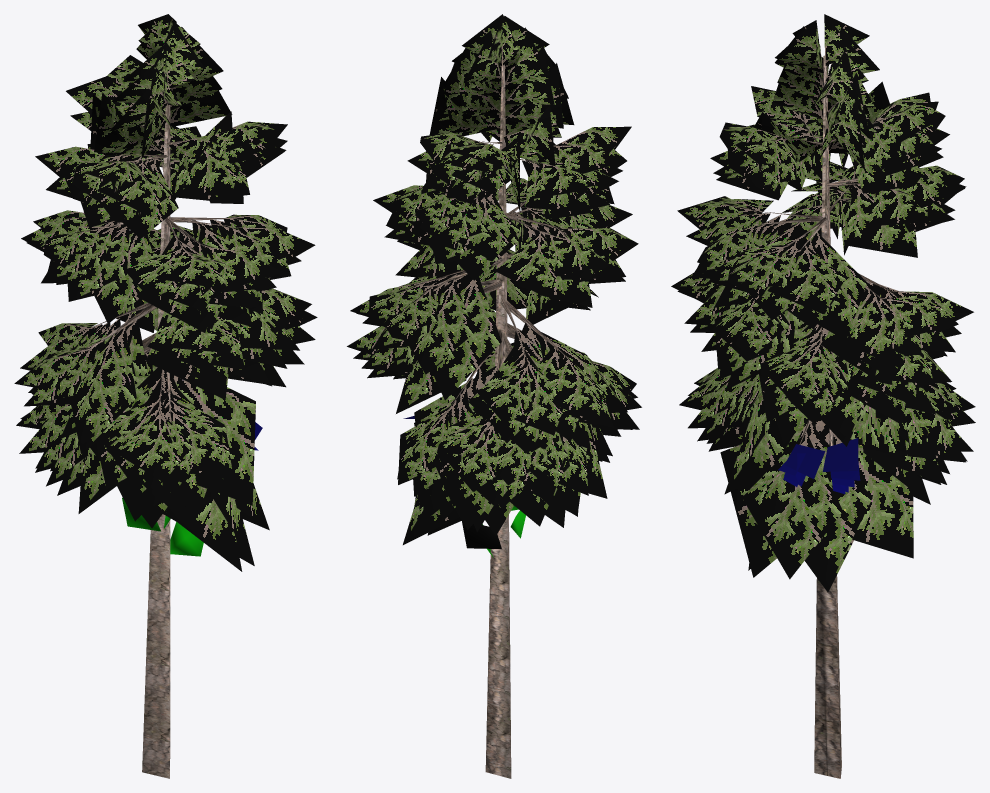
Rendered from Spruce2.fbx.
3 views of the same model, side by side, from view 1: azimuth 30°, elevation 25°; view 2: azimuth 150°, elevation 25°; view 3: azimuth 270°, elevation 25° (orthographic).
Parts seen in each view (by area): view 1: spruce branch_1, bark08_0, branch06_2; view 2: spruce branch_1, bark08_0, branch06_2; view 3: spruce branch_1, bark08_0, branch06_2.
Boxes of the visible parts, x1,y1,x2,y2 form: spruce branch_1: (14, 14, 317, 571); bark08_0: (86, 104, 237, 778); branch06_2: (122, 422, 262, 556); spruce branch_1: (347, 14, 641, 544); bark08_0: (428, 56, 568, 778); branch06_2: (403, 415, 525, 557); spruce branch_1: (671, 14, 975, 592); bark08_0: (752, 55, 894, 778); branch06_2: (778, 438, 860, 493).
Bounding box in the file's own units: 524 × 1430 × 520.
Materials: 2 (2 with a texture image).
